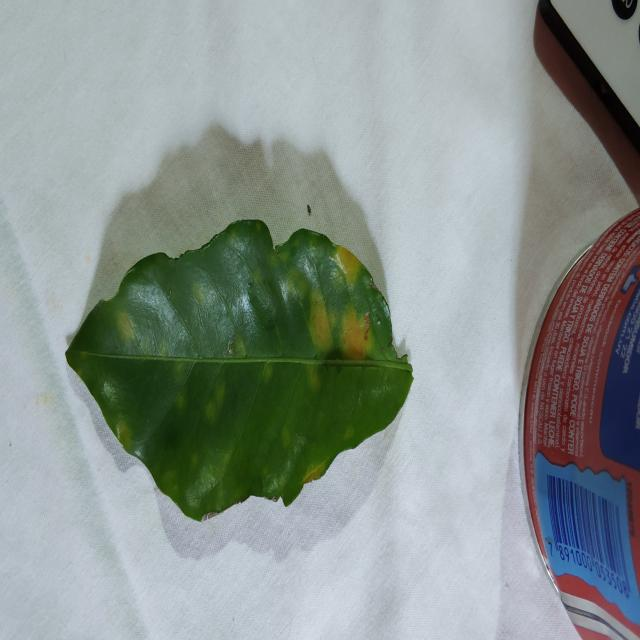Enfermedad-Roya: (64, 219, 414, 523)
